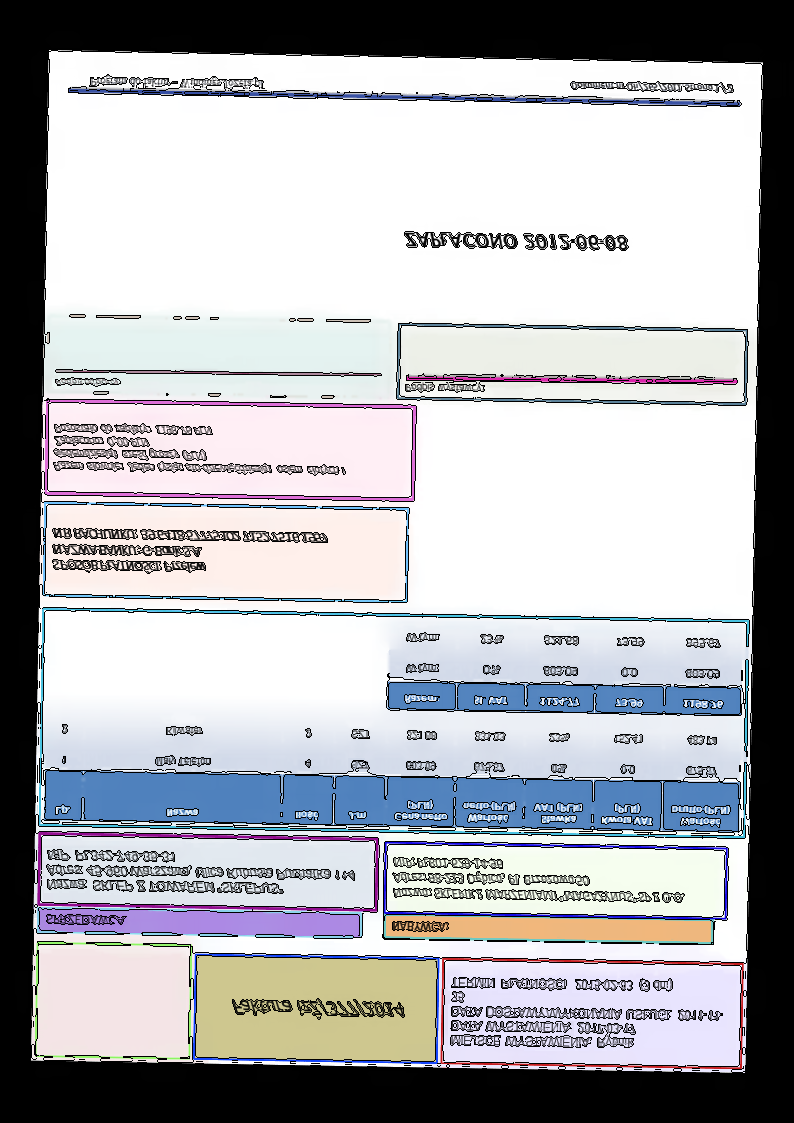Table: (42, 706, 743, 835), (384, 618, 745, 718)
TextBox: (448, 972, 727, 1055), (52, 421, 352, 479), (44, 845, 357, 899), (390, 853, 688, 907), (49, 523, 330, 580), (402, 228, 629, 255), (227, 995, 408, 1022), (87, 72, 264, 95), (568, 78, 736, 98), (41, 912, 129, 930), (402, 379, 487, 397), (53, 374, 122, 392), (389, 917, 449, 937)
